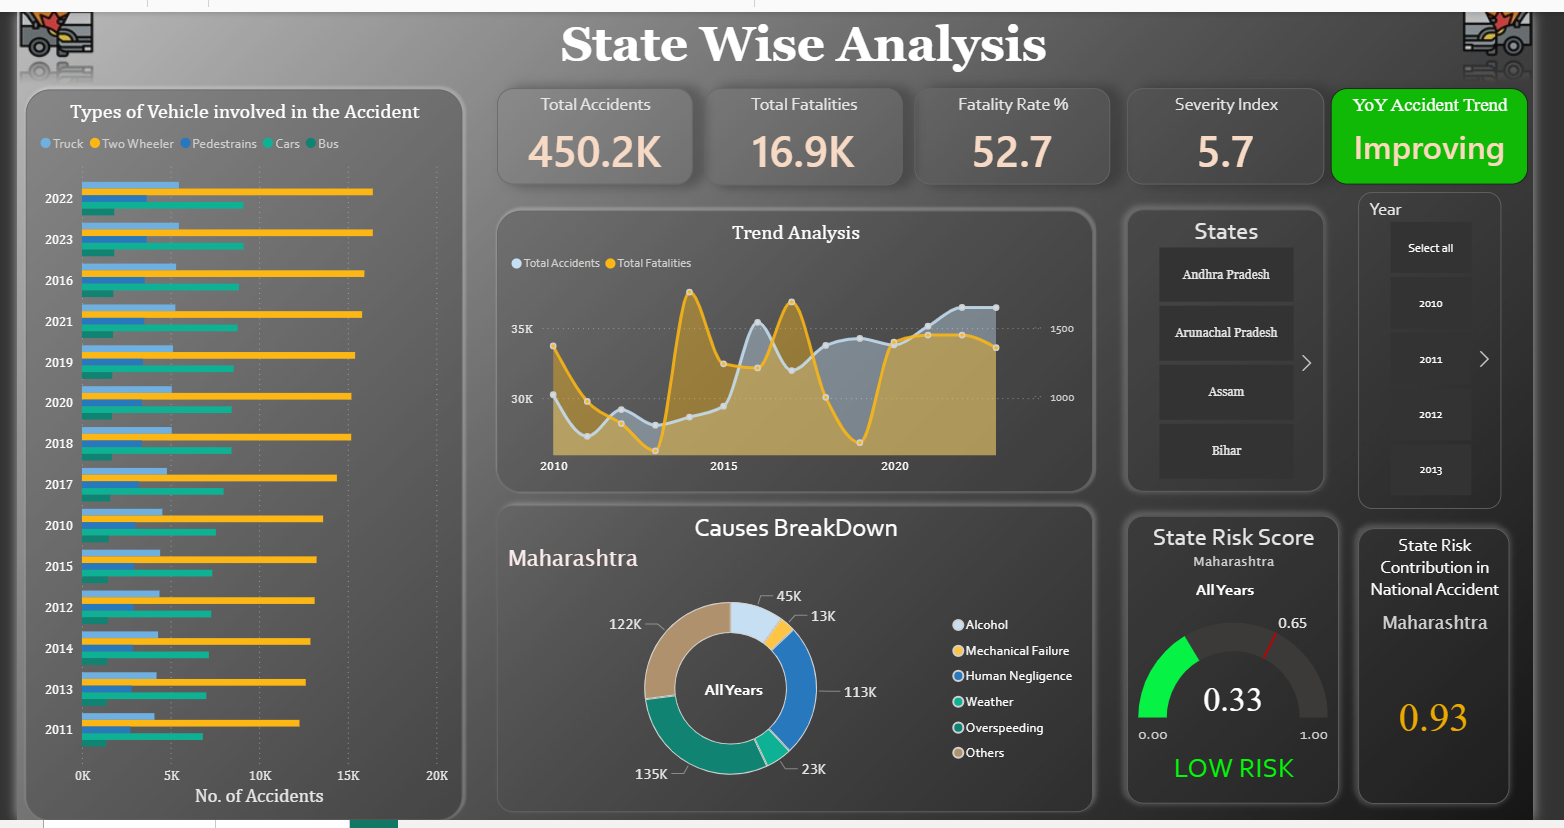

Layout of this report page (visuals, bound fields, positions):
{"tool":"powerbi","page":{"name":"State Profile","canvas":[1500,800],"ordinal":1},"visuals":[{"type":"slicer","title":"States","fields":{"Values":["India_Accidents_Data_2010_2023.State"]},"box":[1098.3,194.9,194.9,279.3],"z":0},{"type":"card","title":"Total Accidents","fields":{"Values":["Sum(India_Accidents_Data_2010_2023.Total_Accidents)"]},"box":[475,75,193.3,95],"z":1000},{"type":"textbox","box":[320.3,0,884.4,68],"z":2000},{"type":"card","title":"Total Fatalities","fields":{"Values":["India_Accidents_Data_2010_2023.Total Fatalities"]},"box":[680,75.7,195.7,95.7],"z":3000},{"type":"card","title":"Severity Index (0-1)","fields":{"Values":["Avg(India_Accidents_Data_2010_2023.Severity_Index)"]},"box":[1098.3,75,195,95],"z":4000},{"type":"card","title":"Fatality Rate %","fields":{"Values":["Accidents.Fatality Rate %"]},"box":[888.3,75,193.3,95],"z":5000},{"type":"lineChart","title":"Trend Analysis","fields":{"Category":["India_Accidents_Data_2010_2023.Year"],"Y2":["India_Accidents_Data_2010_2023.Total Fatalities"],"Y":["Sum(India_Accidents_Data_2010_2023.Total_Accidents)"]},"box":[475,196.7,590,278.3],"z":6000},{"type":"donutChart","title":"Causes BreakDown","fields":{"Y":["Sum(India_Accidents_Data_2010_2023.Cause_Alcohol)","Sum(India_Accidents_Data_2010_2023.Cause_Mechanical)","Sum(India_Accidents_Data_2010_2023.Cause_Negligence)","Sum(India_Accidents_Data_2010_2023.Cause_Weather)","Sum(India_Accidents_Data_2010_2023.Cause_Overspeeding)","Sum(India_Accidents_Data_2010_2023.Cause_Other)"]},"box":[475,488.6,590,303],"z":7000},{"type":"gauge","title":"State Risk Score","fields":{"Y":["India_Accidents_Data_2010_2023.State Risk Score"],"TargetValue":["India_Accidents_Data_2010_2023.Risk Threshold"]},"box":[1098.3,498.7,209.8,284.8],"z":8000},{"type":"card","fields":{"Values":["India_Accidents_Data_2010_2023.Risk Label"]},"box":[1102.4,709.9,205.8,73.6],"z":9000},{"type":"slicer","title":"Year","fields":{"Values":["India_Accidents_Data_2010_2023.Year"]},"box":[1327.2,194.5,141.6,280.5],"z":10000},{"type":"card","title":"YoY Accident Trend","fields":{"Values":["Accidents.Risk Trend"]},"box":[1300,75,195,95],"z":11000},{"type":"clusteredBarChart","title":"Types of  Vehicle involved in the Accident","fields":{"Category":["Accidents.Year"],"Y":["Sum(Accidents.Truck_Involved)","Sum(Accidents.TwoWheeler_Involved)","Sum(Accidents.Pedestrian_Involved)","Sum(Accidents.Car_Involved)","Sum(Accidents.Bus_Involved)"]},"box":[8.7,76.7,431.7,723.6],"z":12000},{"type":"card","title":"State Risk Contribution in National Accident","fields":{"Values":["Accidents.Risk Contribution %"]},"box":[1327.2,498.9,149.5,284.5],"z":13000},{"type":"card","fields":{"Values":["Accidents.Selected Year"]},"box":[669.1,647.3,80.4,50.4],"z":13001},{"type":"card","fields":{"Values":["Accidents.Selected Year"]},"box":[1155.5,547.8,80.4,50.4],"z":13002}]}

Visuals, with their boxes in screenshot pixels (x1, y1, x2, y2), scaled from the page's 1500x800 canvas onto the 1564x828 screenshot:
"States" slicer: bbox=[1145, 202, 1348, 491]
"Total Accidents" card: bbox=[495, 78, 697, 176]
textbox: bbox=[334, 0, 1256, 70]
"Total Fatalities" card: bbox=[709, 78, 913, 177]
"Severity Index (0-1)" card: bbox=[1145, 78, 1348, 176]
"Fatality Rate %" card: bbox=[926, 78, 1128, 176]
"Trend Analysis" lineChart: bbox=[495, 204, 1110, 492]
"Causes BreakDown" donutChart: bbox=[495, 506, 1110, 819]
"State Risk Score" gauge: bbox=[1145, 516, 1364, 811]
card - India_Accidents_Data_2010_2023.Risk Label: bbox=[1149, 735, 1364, 811]
"Year" slicer: bbox=[1384, 201, 1531, 492]
"YoY Accident Trend" card: bbox=[1355, 78, 1559, 176]
"Types of  Vehicle involved in the Accident" clusteredBarChart: bbox=[9, 79, 459, 827]
"State Risk Contribution in National Accident" card: bbox=[1384, 516, 1540, 811]
card - Accidents.Selected Year: bbox=[698, 670, 781, 722]
card - Accidents.Selected Year: bbox=[1205, 567, 1289, 619]
